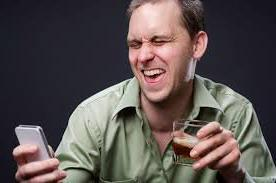Drunk: (128, 9, 187, 100)
